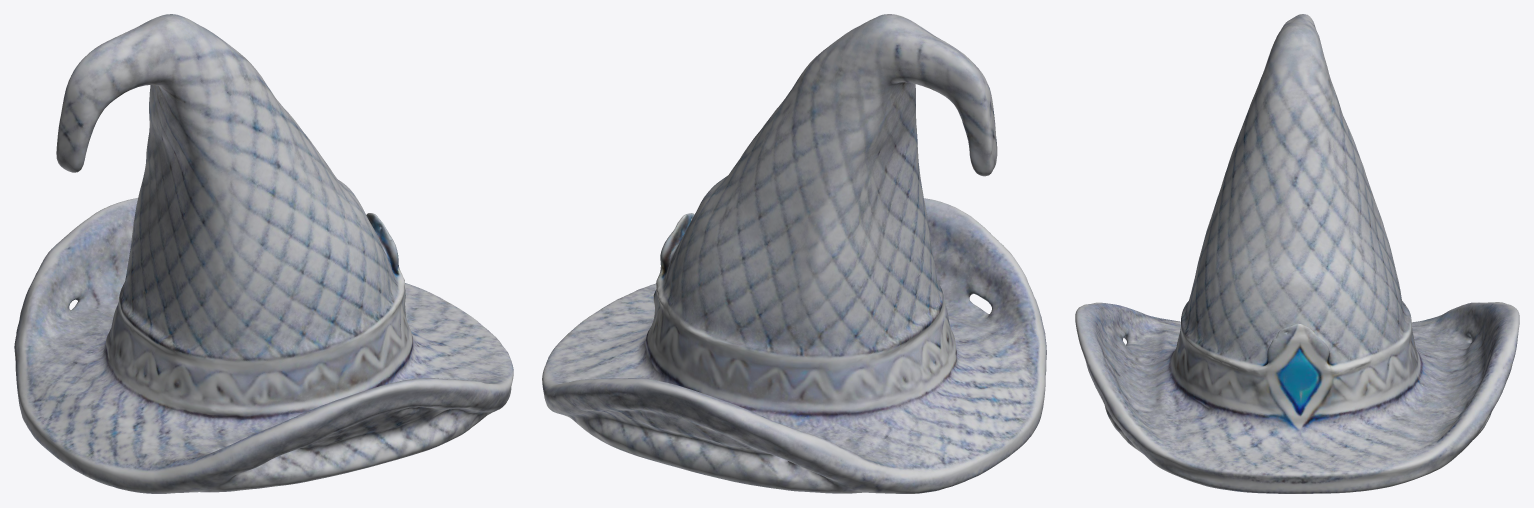
Rendered from 4bb2a6b9b703_White_Magician_Hat_.fbx.
The picture shows the model from 3 angles, left to right: view 1: azimuth 30°, elevation 25°; view 2: azimuth 150°, elevation 25°; view 3: azimuth 270°, elevation 25°; orthographic projection. The views are drawn at different scales.
Visible parts, largest first — view 1: high_poly; view 2: high_poly; view 3: high_poly.
Part boxes in pixels (bbox=[...]): high_poly: bbox=[14, 14, 513, 493]; high_poly: bbox=[542, 14, 1046, 493]; high_poly: bbox=[1075, 14, 1519, 493].
Size of the model in its own units: 93.23 by 87.99 by 100.
